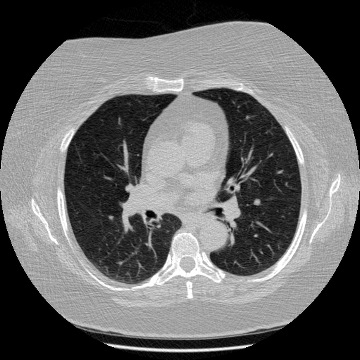nodule: (254, 199, 260, 205)
